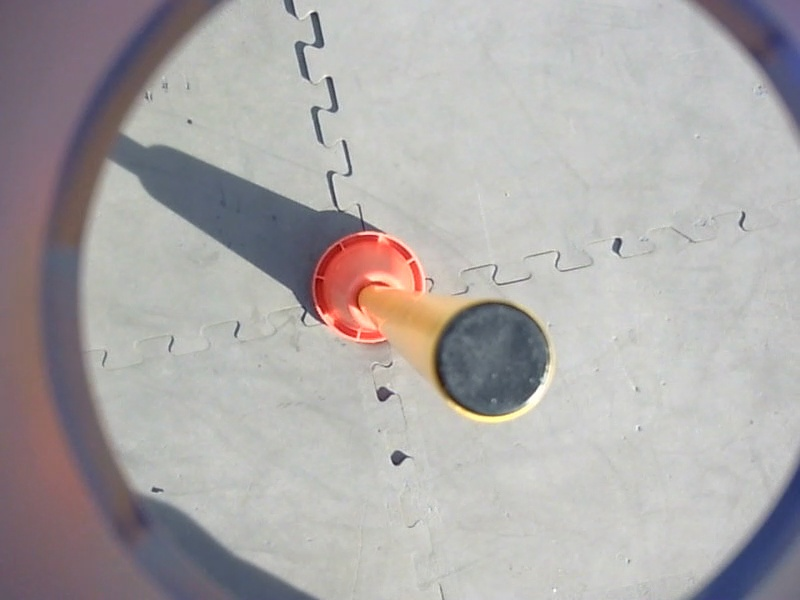tip: (424, 293, 560, 428)
